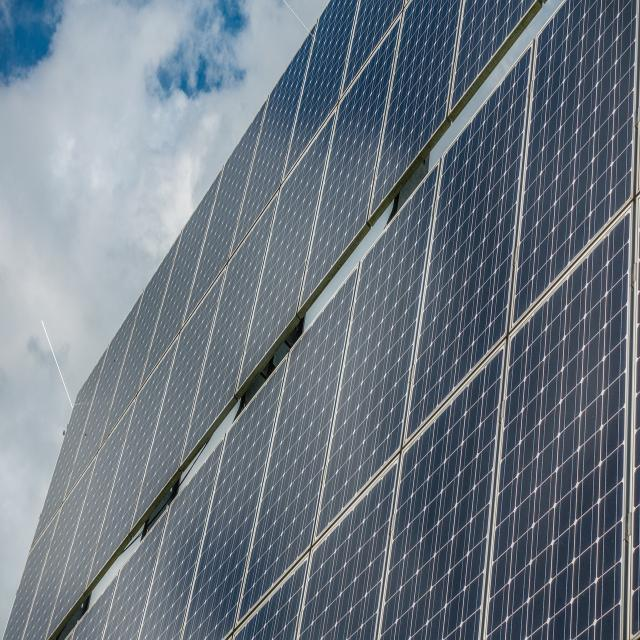clean-solar-panel: (488, 218, 628, 639)
